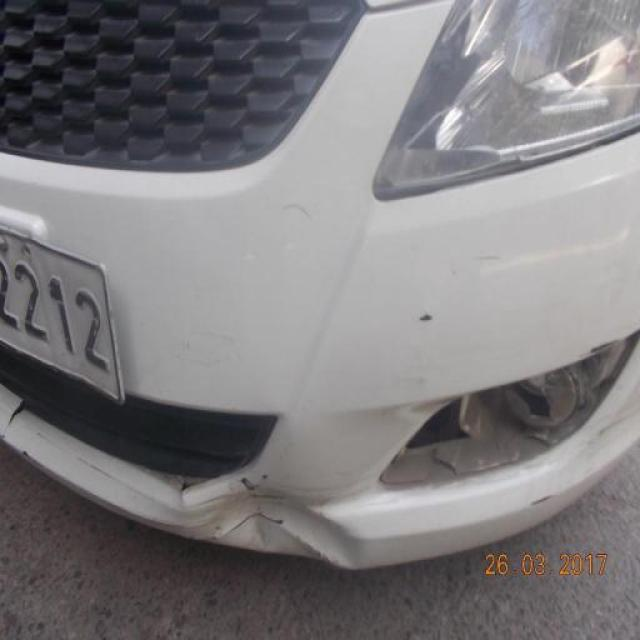dent: (183, 483, 357, 573)
shatter: (377, 328, 640, 496)
